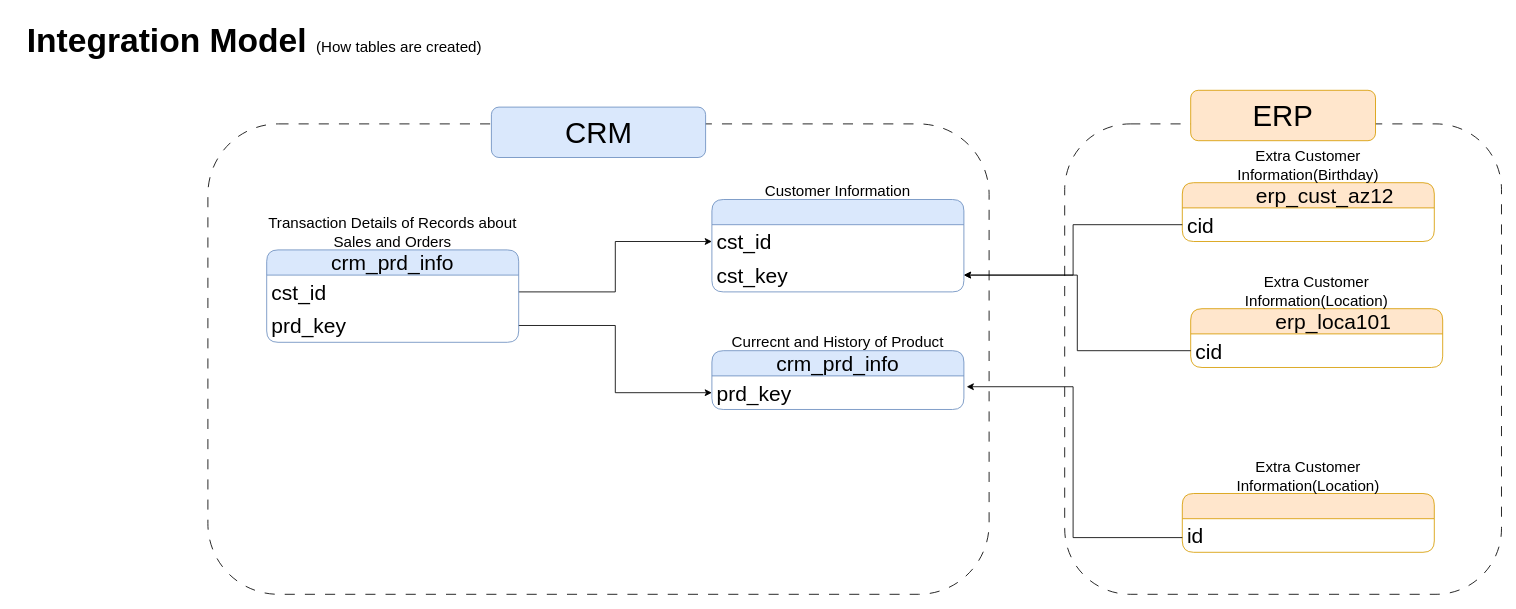
Image size: 1516x609. Some labels were removed from this diagram. The shapes that lost their labels are listed below. From the top down, each one's box as (x1, y1, x2, y2) in pixels, then its label:
(711, 199, 964, 292): crm_cust_info
(1181, 493, 1434, 552): erp_px_cat_g1v2
